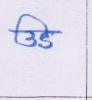e_matra: (19, 14, 53, 30)
